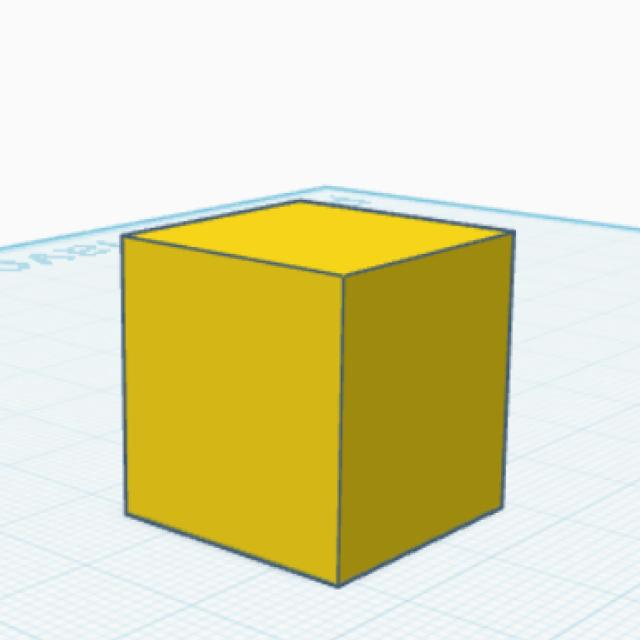cube: (116, 193, 519, 592)
